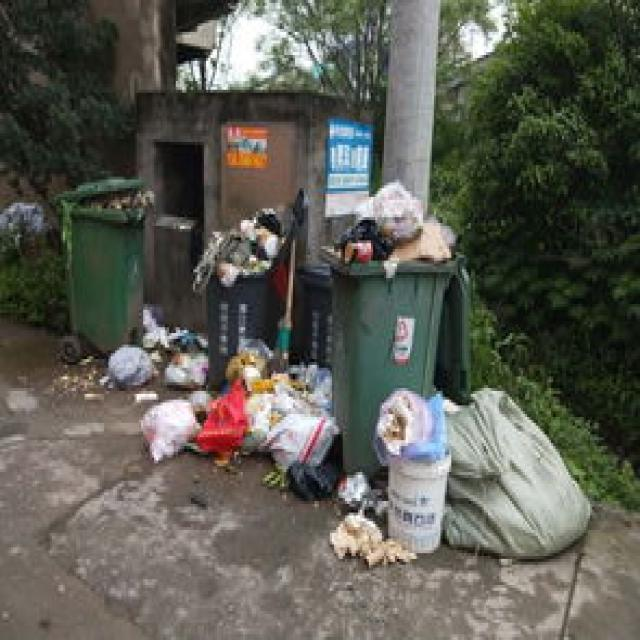garbage: (106, 298, 588, 565)
overflow: (316, 177, 468, 469), (56, 177, 154, 350), (189, 203, 280, 382)
